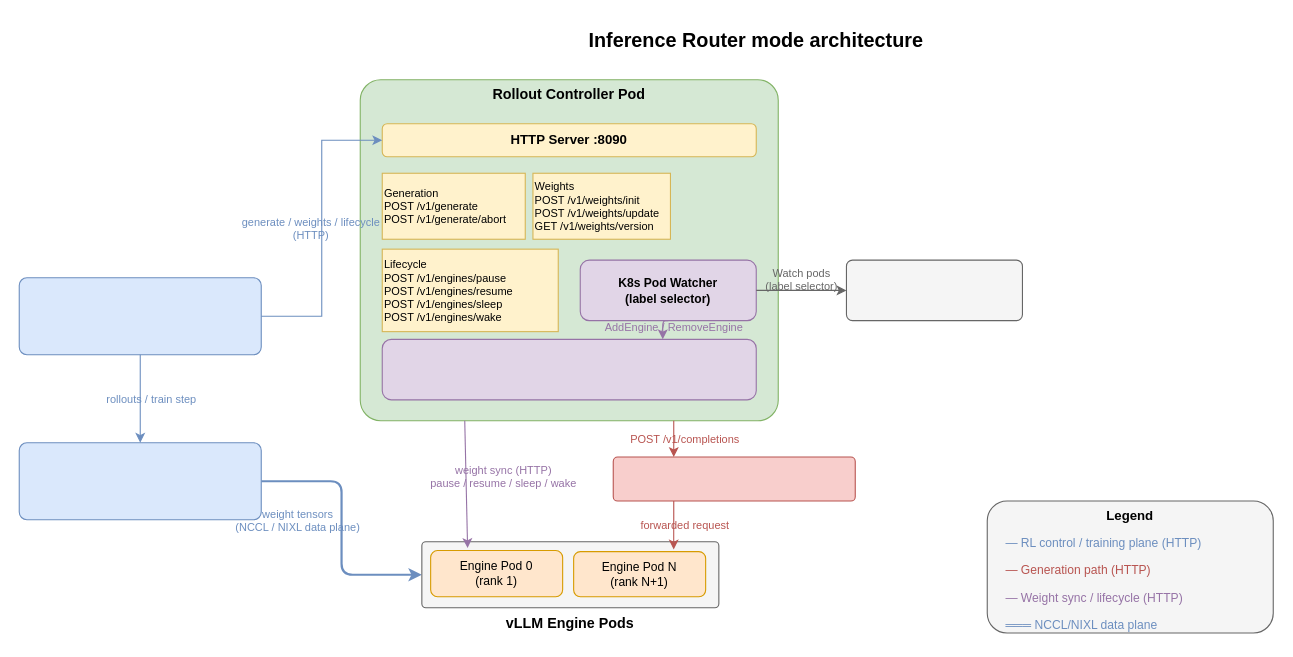
Some shapes in this 1293 by 657 pixel diagram are drawn without their labels. The shapes that lost their labels are listed below. From the top down, each one's centre as x and y in pixels, then its label:
[933,290]: K8s API Server
[139,316]: RL Training Framework (e.g., veRL / trlX)
[568,369]: EnginePool (PickEngine → routerURL)
[139,481]: Training (NCCL rank 0)
[733,478]: Inference Router
